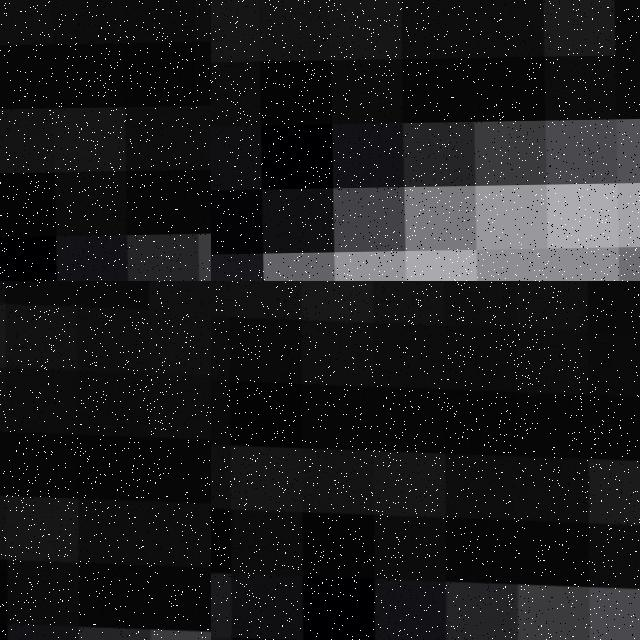drone: (211, 281, 640, 640), (0, 281, 211, 640)
